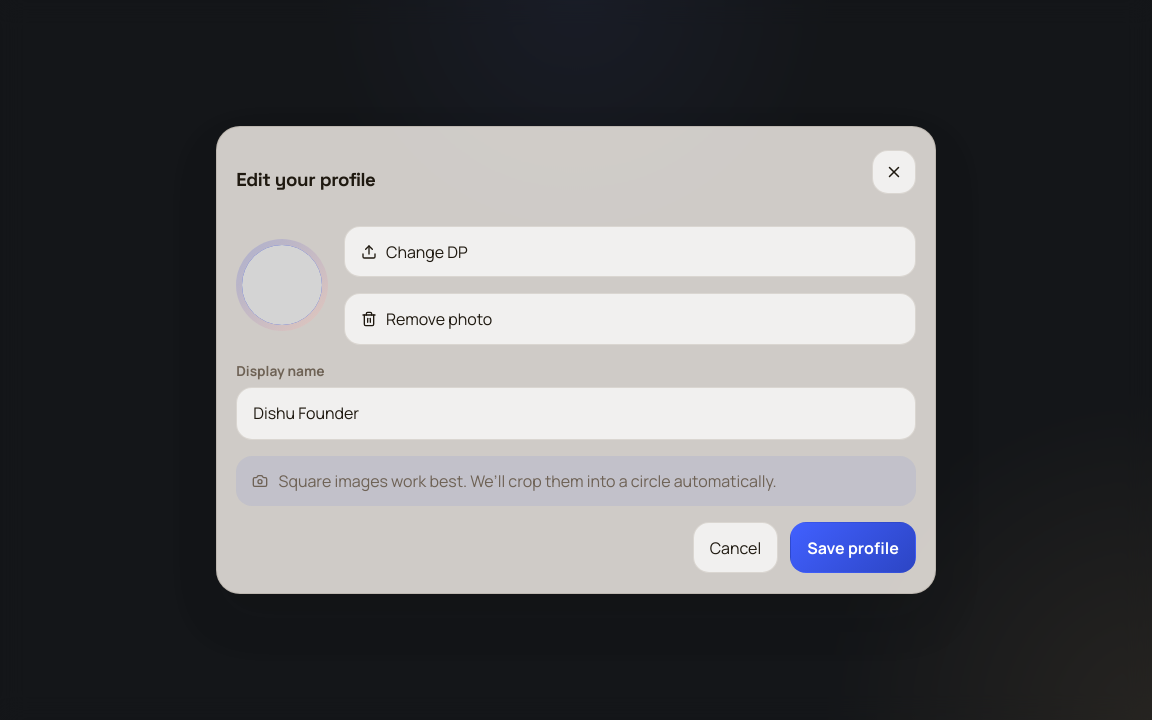
ProfileEditorModal › shows a validation error when the display name is empty
Clear the field labelled "Display name" at (576, 413), box [236, 387, 916, 440]
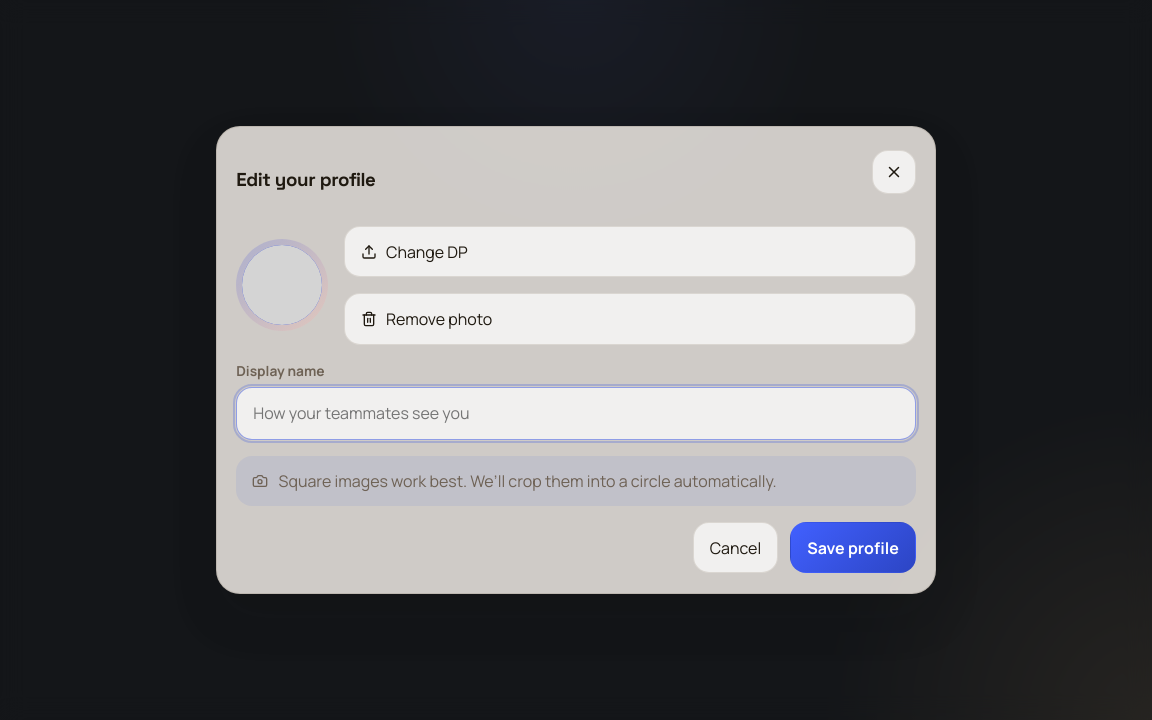
Click the button "Save profile" at (853, 548), box [790, 522, 916, 574]
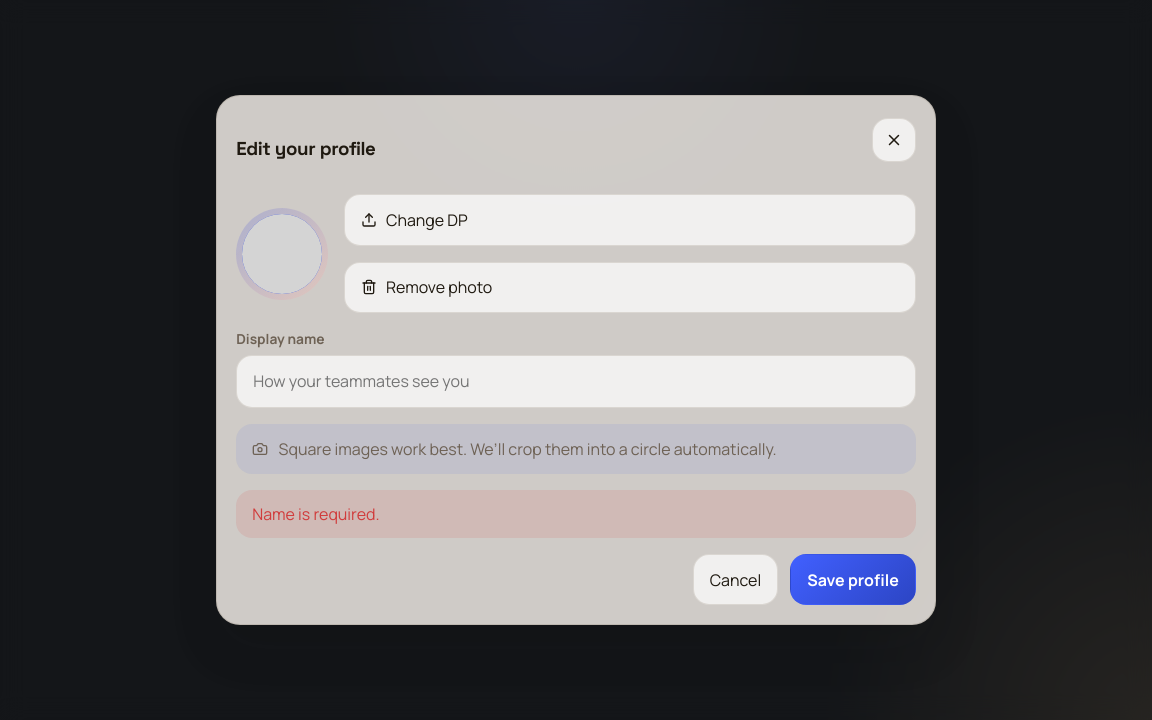
Check: the text "Name is required." is shown, box [236, 490, 916, 538]
